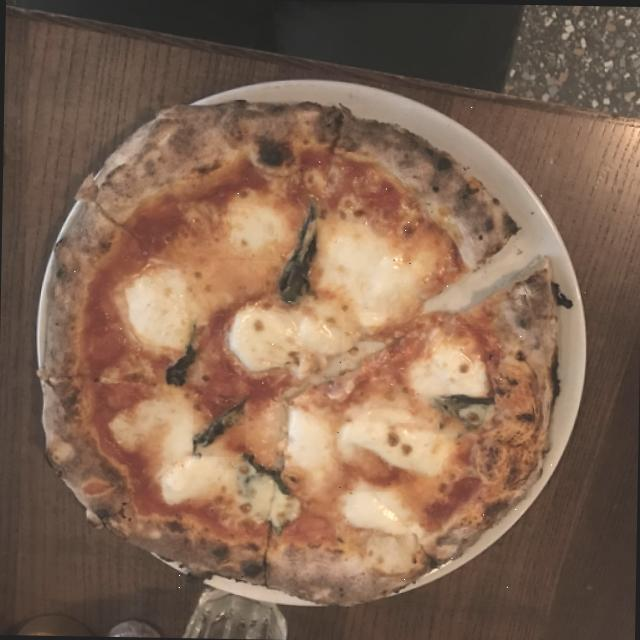basil: (276, 205, 325, 305), (192, 398, 246, 456), (166, 323, 203, 394), (435, 396, 495, 429), (240, 458, 292, 496)
cheese: (317, 213, 422, 326), (226, 302, 342, 374), (139, 412, 229, 498), (338, 410, 448, 472), (120, 262, 192, 348), (225, 188, 289, 261), (280, 396, 334, 482), (346, 490, 419, 541), (414, 347, 486, 395)
pizza: (41, 102, 555, 603)
